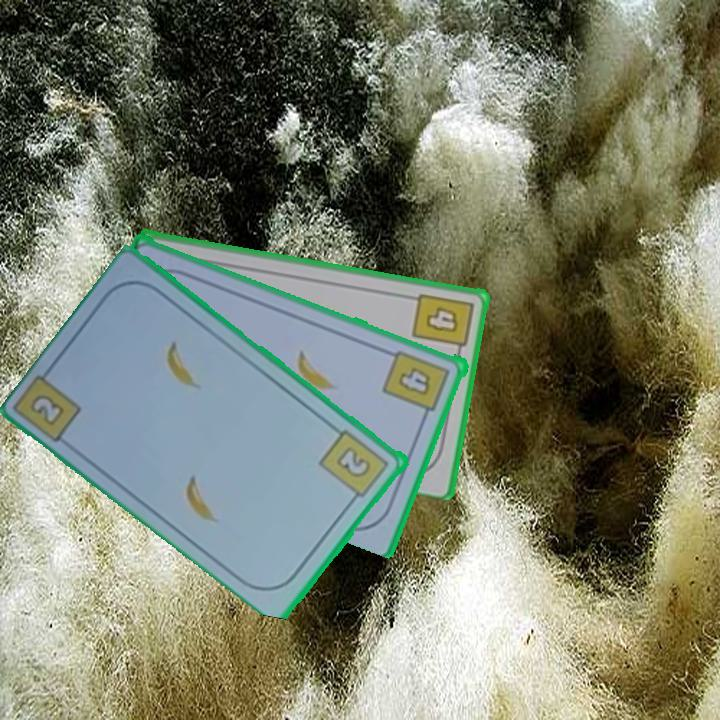2b: (316, 426, 393, 507), (26, 390, 68, 429)
4b: (380, 346, 454, 422), (408, 289, 476, 359)
